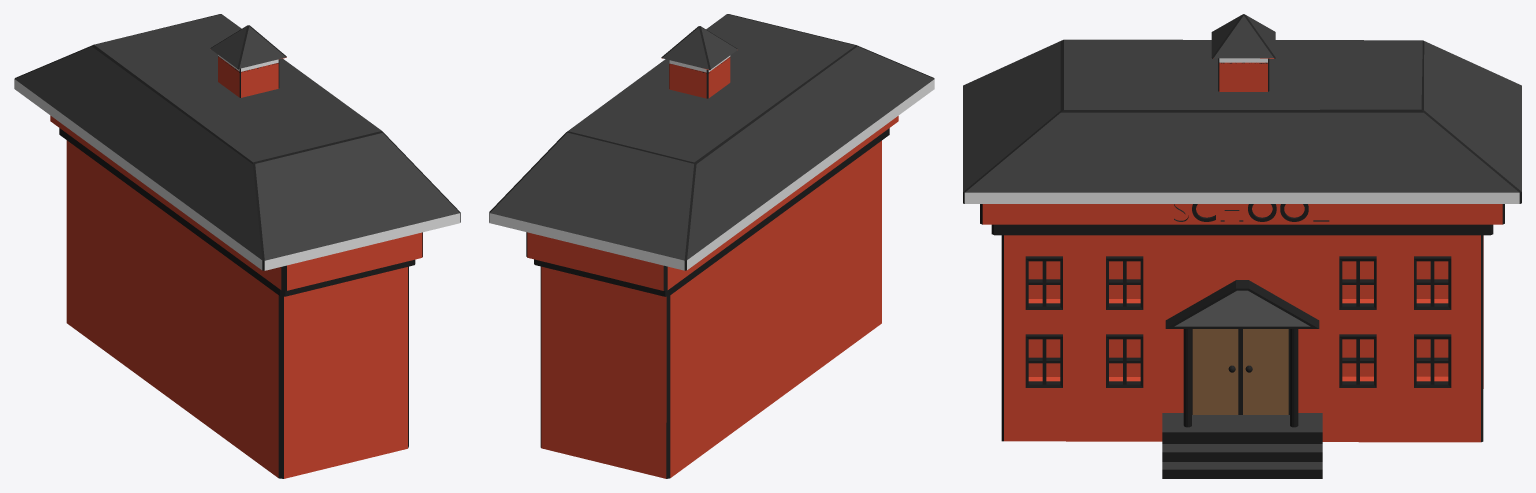
File: red_school.fbx
3 renders of one model, left to right at view 1: azimuth 30°, elevation 25°; view 2: azimuth 150°, elevation 25°; view 3: azimuth 270°, elevation 25°, orthographic. The views are drawn at different scales.
Visible parts, largest first — view 1: building, building.001, Cube.002; view 2: building, building.001, Cube.002; view 3: building, building.001, building.003, Cube.004, Cube, Cube.002, pillars, 1st window.001, 4th window.001, 1st window, 4th window, 2nd window.001 (+4 smaller).
Boxes of the visible parts, x1,y1,x2,y2 form: building: (50,115,422,478); building.001: (14,14,460,270); Cube.002: (210,25,286,97); building: (526,116,898,478); building.001: (489,14,934,270); Cube.002: (661,26,737,98); building: (980,204,1504,442); building.001: (963,39,1521,203); building.003: (1162,413,1322,478); Cube.004: (1192,329,1289,414); Cube: (1165,280,1319,328); Cube.002: (1211,14,1275,91); pillars: (1183,329,1298,427); 1st window.001: (1025,334,1062,387); 4th window.001: (1414,334,1451,387); 1st window: (1025,256,1062,309); 4th window: (1414,256,1451,309); 2nd window.001: (1106,334,1143,387).
Size of the model in its own units: 2807 by 4184 by 5302.
